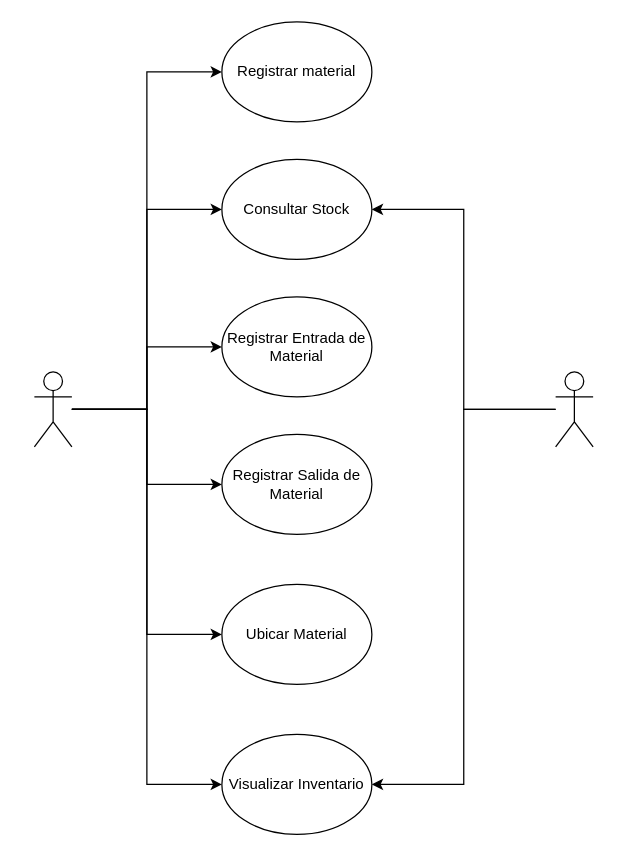
Some shapes in this 636 by 856 pixel diagram are drawn without their labels. The centre of each missing label's shape, as x and y in pixels:
"Regencia" belongs at pixel 52 409.
"Visualizador" belongs at pixel 573 409.
